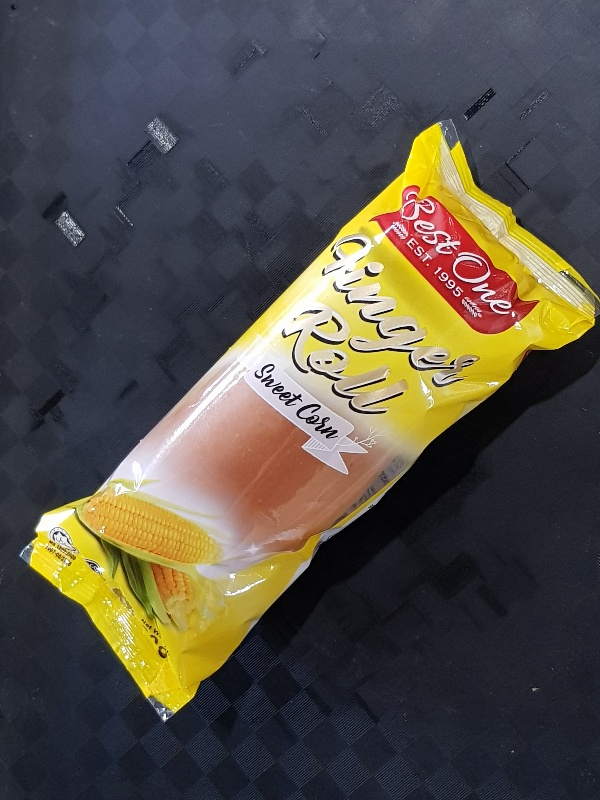Tinges Roll Sweet Corn: (17, 117, 600, 719)
